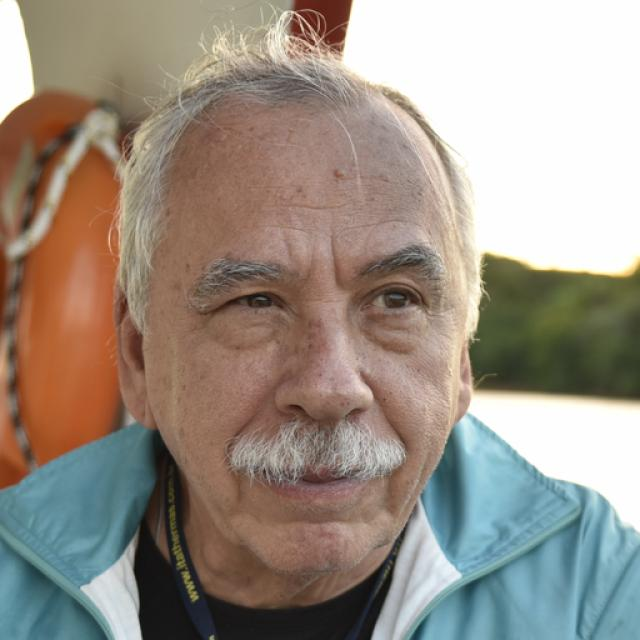Acne: (327, 166, 356, 184)
Pigmentation: (274, 314, 335, 365)
Wrinkle: (361, 372, 411, 461), (336, 214, 422, 234), (249, 220, 311, 237), (273, 201, 349, 210)
